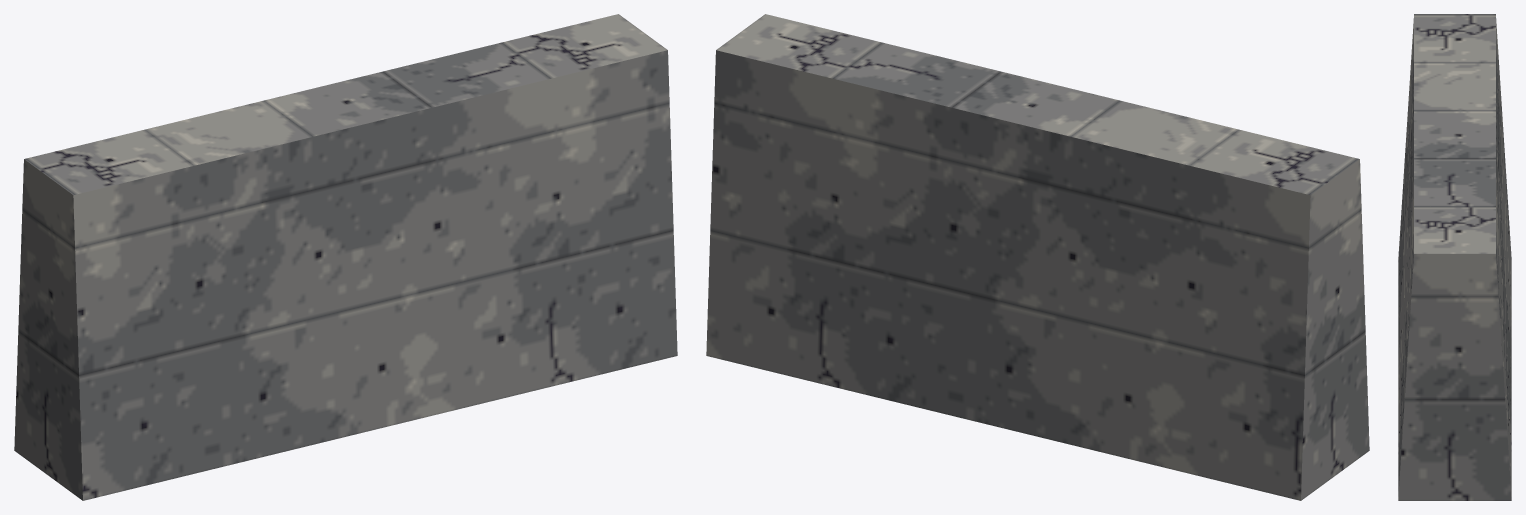
Rendered from FN_RetainingWall_2.5m.obj.
The picture shows the model from 3 angles, left to right: view 1: azimuth 30°, elevation 25°; view 2: azimuth 150°, elevation 25°; view 3: azimuth 270°, elevation 25°; orthographic projection. The views are drawn at different scales.
Visible parts, largest first — view 1: FN_RetainingWall_2.5m; view 2: FN_RetainingWall_2.5m; view 3: FN_RetainingWall_2.5m.
Boxes of the visible parts, x1,y1,x2,y2 form: FN_RetainingWall_2.5m: (14, 14, 677, 500); FN_RetainingWall_2.5m: (706, 14, 1369, 500); FN_RetainingWall_2.5m: (1398, 14, 1511, 500).
Bounding box in the file's own units: 2.5 × 1.2 × 0.5.
1 material, 1 textured.
